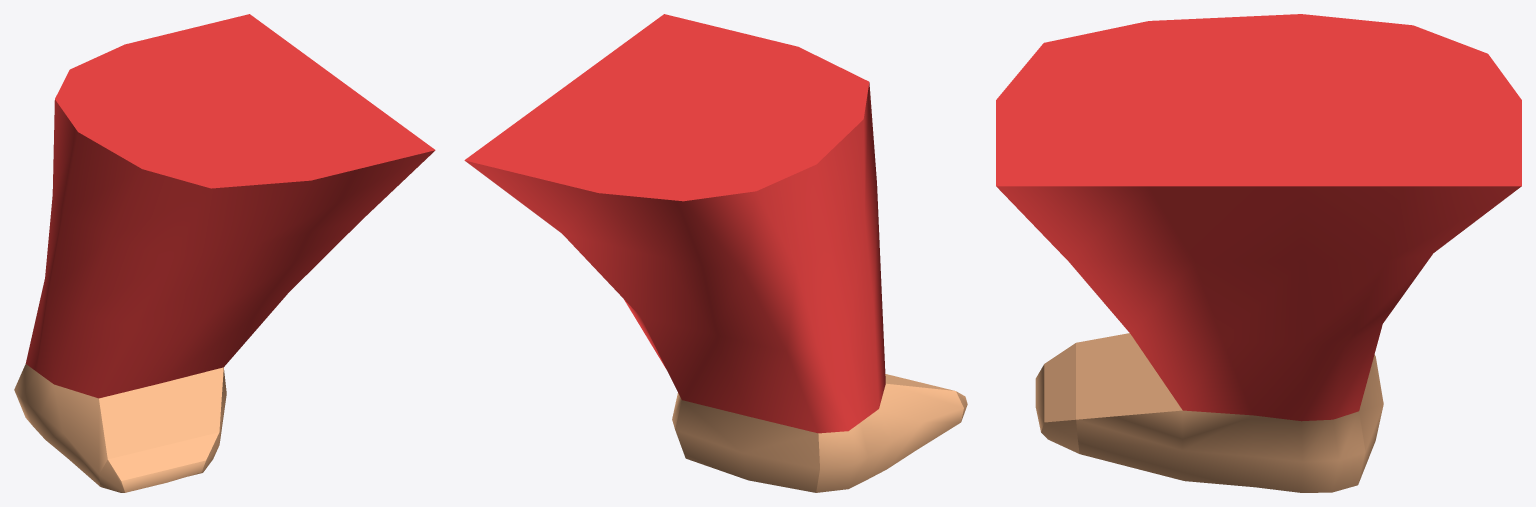
Rendered from AXO_ANGRY_LEG_R.fbx.
3 views of the same model, side by side, from view 1: azimuth 30°, elevation 25°; view 2: azimuth 150°, elevation 25°; view 3: azimuth 270°, elevation 25° (orthographic). The views are drawn at different scales.
Parts seen in each view (by area): view 1: AXO_ANGRY_LEG_R; view 2: AXO_ANGRY_LEG_R; view 3: AXO_ANGRY_LEG_R.
Boxes of the visible parts, left/top/right/bottom form: AXO_ANGRY_LEG_R: left=14, top=14, right=435, bottom=492; AXO_ANGRY_LEG_R: left=464, top=14, right=967, bottom=492; AXO_ANGRY_LEG_R: left=996, top=14, right=1521, bottom=492.
Bounding box in the file's own units: 3.17 × 2.79 × 3.32.
